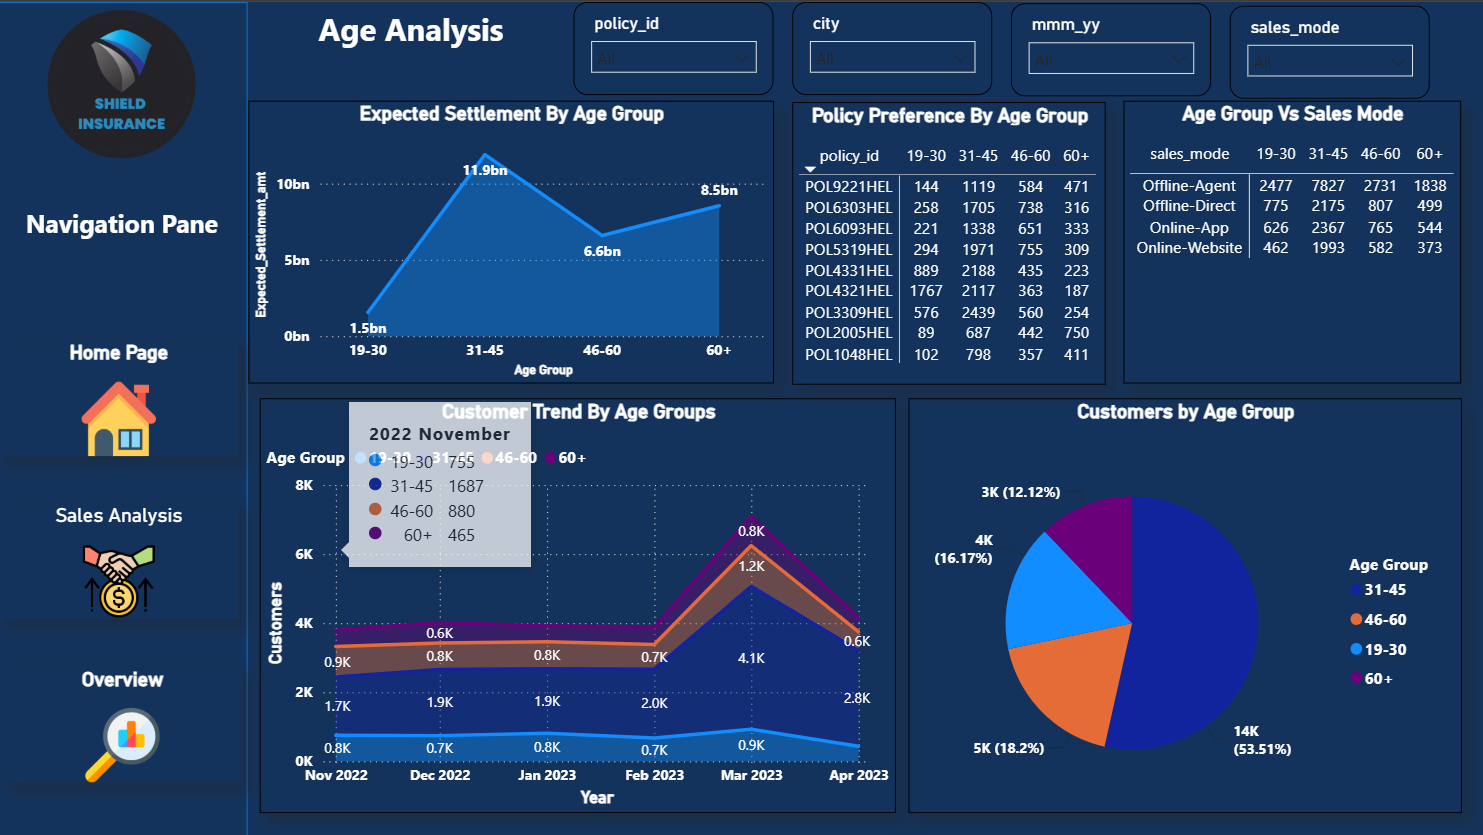

The page's visual inventory and layout, read from the dashboard file:
{"tool":"powerbi","page":{"name":"Age Analysis","canvas":[1280,720],"ordinal":3},"visuals":[{"type":"shape","box":[0,0,216.5,720.4],"z":0},{"type":"textbox","box":[0,170.5,216.5,70.9],"z":1000},{"type":"image","box":[0,1.4,216.5,139.3],"z":2000},{"type":"image","title":"Sales Analysis","box":[3.7,431.2,205,99.5],"z":3000},{"type":"image","title":"Home Page","box":[3.7,291.1,205,99],"z":4000},{"type":"slicer","fields":{"Values":["dim_date.mmm_yy"]},"box":[873,1.5,172,80],"z":5000},{"type":"slicer","fields":{"Values":["dim_customer.city"]},"box":[684.8,0,172,80],"z":6000},{"type":"slicer","fields":{"Values":["dim_policies.policy_id"]},"box":[496.6,0,172.1,80],"z":7000},{"type":"slicer","fields":{"Values":["fact_premiums.sales_mode"]},"box":[1061.1,3,172,80],"z":8000},{"type":"textbox","box":[216.8,0,279.5,83.7],"z":9000},{"type":"pivotTable","title":"Policy Preference By Age Group","fields":{"Columns":["dim_customer.Age Group"],"Rows":["fact_premiums.policy_id"],"Values":["Measures (2).Customers"]},"box":[685,85.8,270,243.5],"z":10000},{"type":"areaChart","title":"Expected Settlement By Age Group","fields":{"Category":["dim_customer.Age Group"],"Y":["Measures (2).Expected_Settlement_amt"]},"box":[217,84.5,451.6,243.5],"z":11000},{"type":"stackedAreaChart","title":"Customer Trend By Age Groups","fields":{"Category":["dim_date.date.Variation.Date Hierarchy.Year","dim_date.date.Variation.Date Hierarchy.Month"],"Series":["dim_customer.Age Group"],"Y":["Measures (2).Customers"]},"box":[227.1,340.6,547.5,357],"z":12000},{"type":"pieChart","fields":{"Category":["dim_customer.Age Group"],"Y":["Measures (2).Customers"]},"box":[784.7,340.6,475.6,357],"z":13000},{"type":"pivotTable","title":"Age Group Vs Sales Mode","fields":{"Columns":["dim_customer.Age Group"],"Rows":["fact_premiums.sales_mode"],"Values":["Measures (2).Customers"]},"box":[970.2,84.5,290.2,243.5],"z":14000},{"type":"image","title":"Overview","box":[6,571.9,205,99],"z":15000}]}

Visuals, with their boxes in screenshot pixels (x1, y1, x2, y2), scaled from the page's 1280x720 canvas onto the 1483x835 screenshot:
shape: l=0, t=0, r=251, b=834
textbox: l=0, t=198, r=251, b=280
image: l=0, t=2, r=251, b=163
"Sales Analysis" image: l=4, t=500, r=242, b=615
"Home Page" image: l=4, t=338, r=242, b=452
slicer - dim_date.mmm_yy: l=1011, t=2, r=1211, b=95
slicer - dim_customer.city: l=793, t=0, r=993, b=93
slicer - dim_policies.policy_id: l=575, t=0, r=775, b=93
slicer - fact_premiums.sales_mode: l=1229, t=3, r=1429, b=96
textbox: l=251, t=0, r=575, b=97
"Policy Preference By Age Group" pivotTable: l=794, t=100, r=1106, b=382
"Expected Settlement By Age Group" areaChart: l=251, t=98, r=775, b=380
"Customer Trend By Age Groups" stackedAreaChart: l=263, t=395, r=897, b=809
pieChart - dim_customer.Age Group x Measures (2).Customers: l=909, t=395, r=1460, b=809
"Age Group Vs Sales Mode" pivotTable: l=1124, t=98, r=1460, b=380
"Overview" image: l=7, t=663, r=244, b=778
